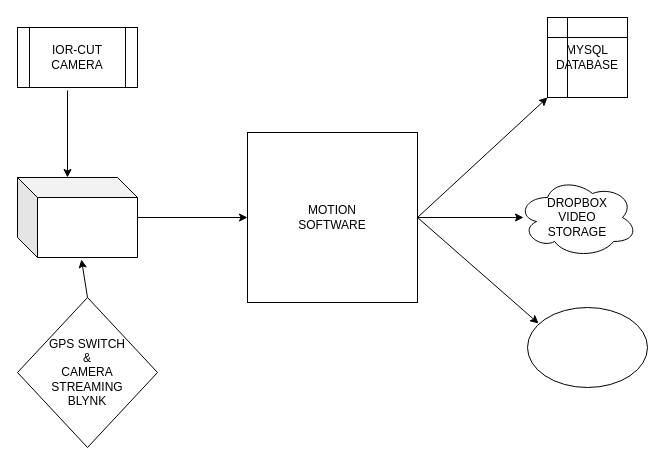
The diagram is 665 pixels wide and 465 high, and some of its shapes have lost their labels. Here are the shapes that lost their labels. From the top down, the box of each, then its label:
(16, 176, 138, 258): RASPBERRY PI
(526, 306, 648, 388): WIA EMAIL NOTIFICATION
